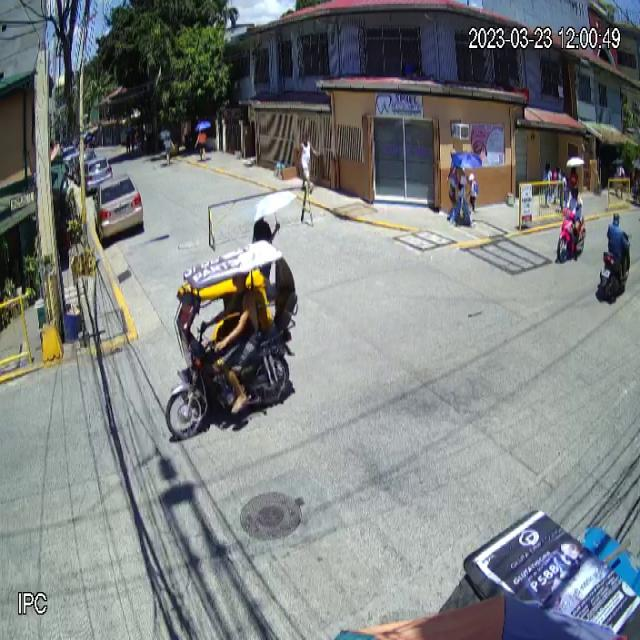Tricycle: (165, 238, 299, 440)
